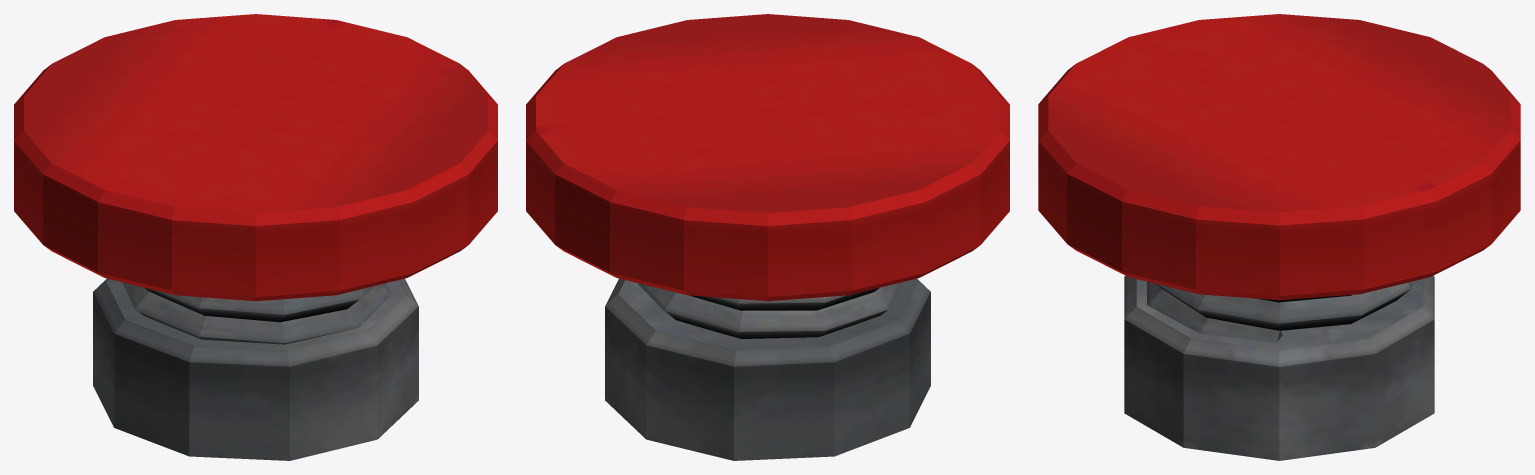
Rendered from springclassicred_ground.obj.
3 views of the same model, side by side, from view 1: azimuth 30°, elevation 25°; view 2: azimuth 150°, elevation 25°; view 3: azimuth 270°, elevation 25° (orthographic).
Parts seen in each view (by area): view 1: rdmobj00_rdmobj00.002; view 2: rdmobj00_rdmobj00.002; view 3: rdmobj00_rdmobj00.002.
Boxes of the visible parts, <box> form: rdmobj00_rdmobj00.002: <box>14,14,497,460</box>; rdmobj00_rdmobj00.002: <box>526,14,1009,460</box>; rdmobj00_rdmobj00.002: <box>1038,14,1520,460</box>.
Bounding box in the file's own units: 36 × 22.61 × 35.45.
1 material, 1 textured.
